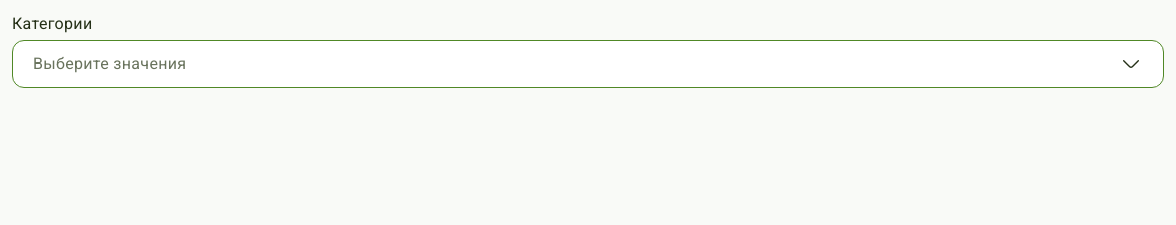
MultiSelect › закрывается при disabled и не открывается сам после включения
Earlier steps of the test are not shown.
Later steps or results of the test are not shown.
Click the button named "Категории".
click(110, 64)  # box top-left (12, 40), bottom-right (1164, 88)
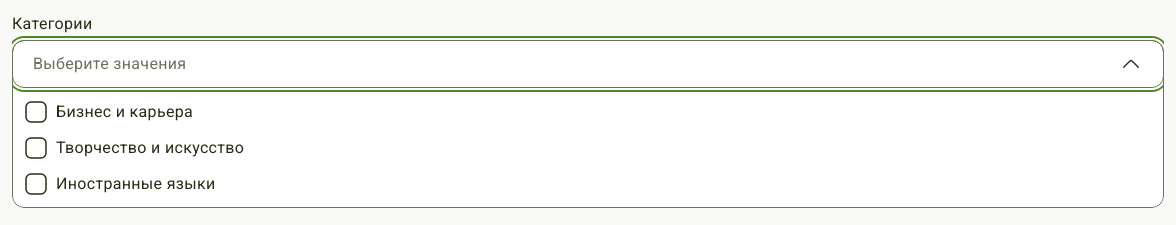
Check: the checkbox labelled "Бизнес и карьера" is shown, box top-left (24, 100), bottom-right (193, 124)
